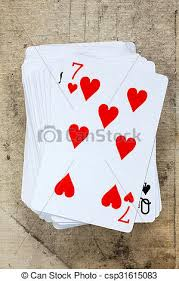seven of hearts: (30, 58, 170, 235)
